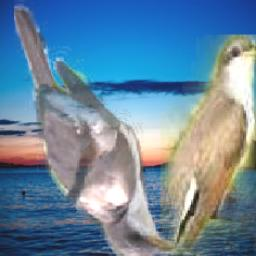Cuckoo: (13, 1, 181, 256), (161, 35, 256, 256)
